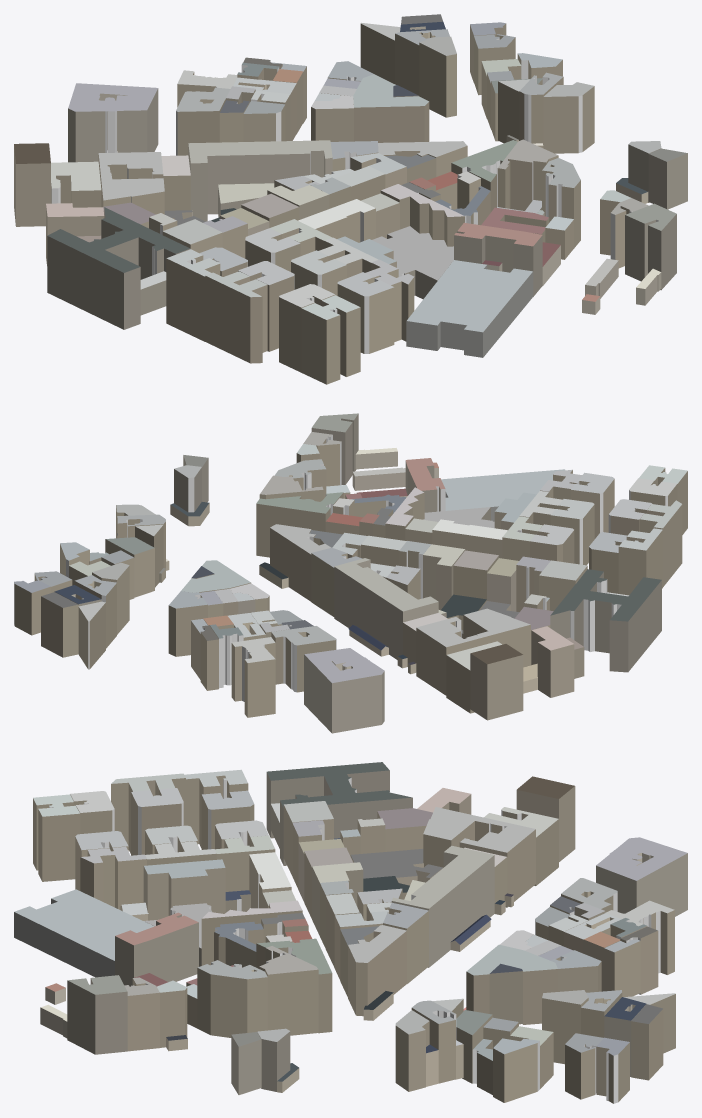
3 renders of one model, top to bottom at view 1: azimuth 30°, elevation 25°; view 2: azimuth 150°, elevation 25°; view 3: azimuth 270°, elevation 25°, orthographic. The views are drawn at different scales.
Visible parts, largest first — view 1: tuile; view 2: tuile; view 3: tuile.
Part boxes in pixels (box(x1,y1,x2,y2)): tuile: box(14, 14, 687, 384); tuile: box(14, 413, 687, 733); tuile: box(14, 762, 687, 1103).
Size of the model in its own units: 281 by 41.26 by 283.
